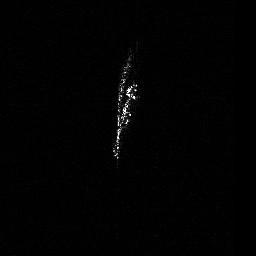ship: (114, 82, 139, 143)
